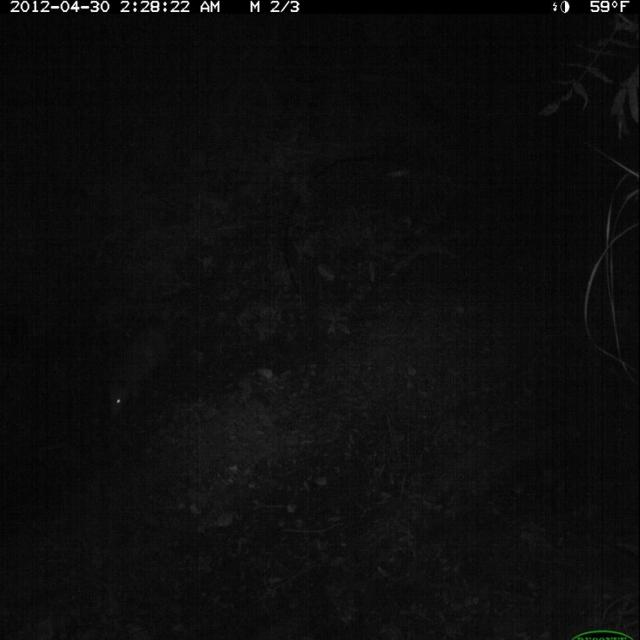opossum: (101, 315, 189, 424)
